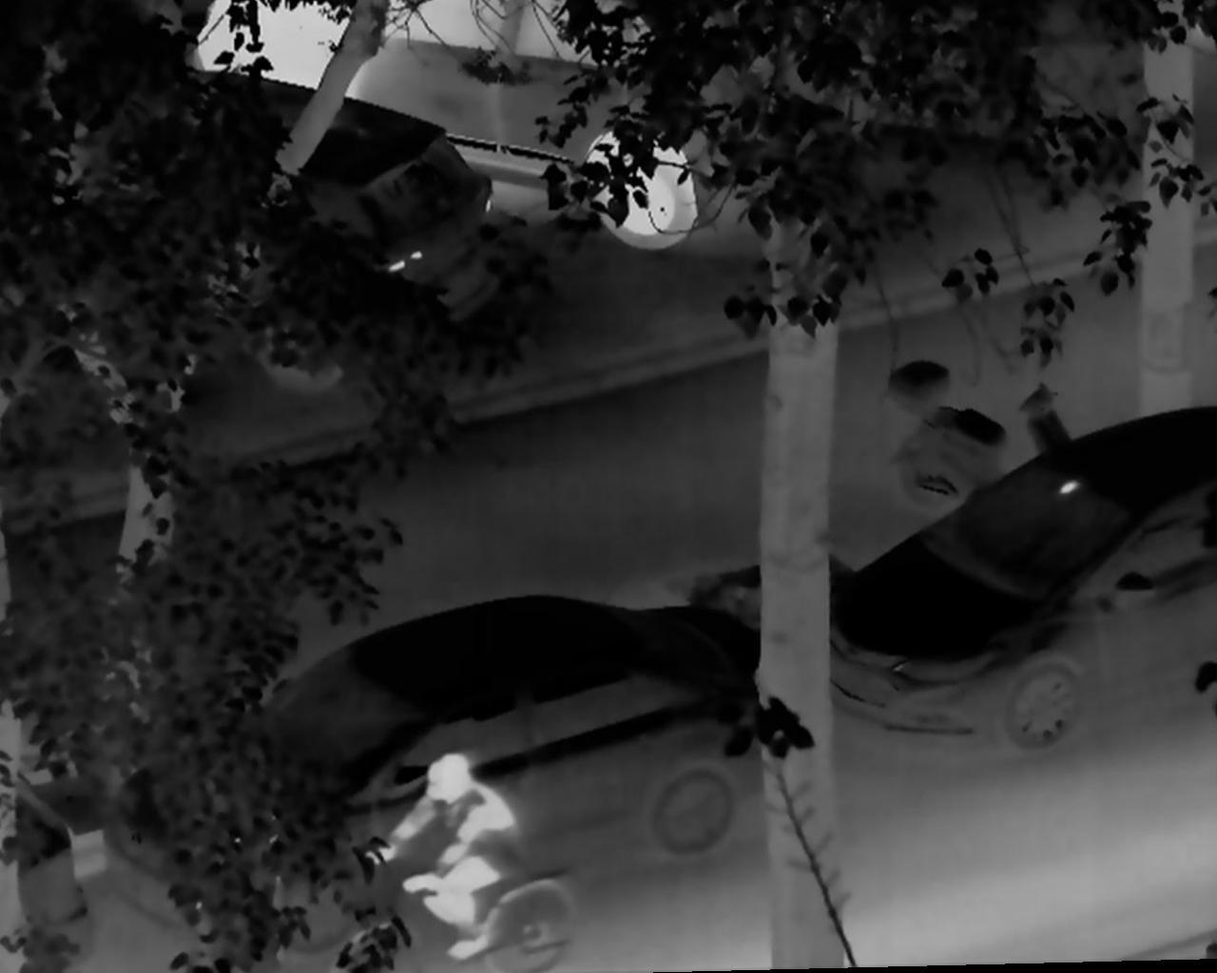person: (359, 745, 523, 967)
